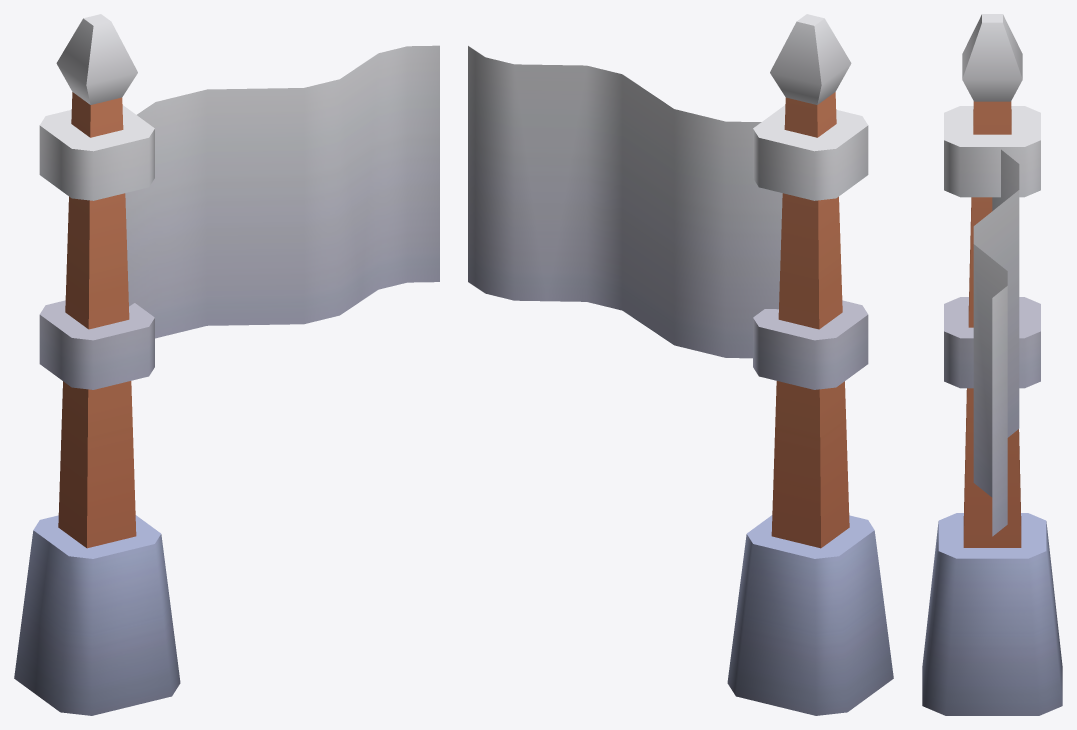
File: kenney-pirate-flag.glb
3 views of the same model, side by side, from view 1: azimuth 30°, elevation 25°; view 2: azimuth 150°, elevation 25°; view 3: azimuth 270°, elevation 25° (orthographic).
Visible parts, largest first — view 1: flag; view 2: flag; view 3: flag.
Part boxes in pixels (x1,y1,x2,y2): flag: (14, 14, 439, 715); flag: (468, 14, 893, 715); flag: (922, 14, 1062, 715).
Size of the model in its own units: 1.34 by 2.1 by 0.3988.
Materials: 1 (1 with a texture image).
